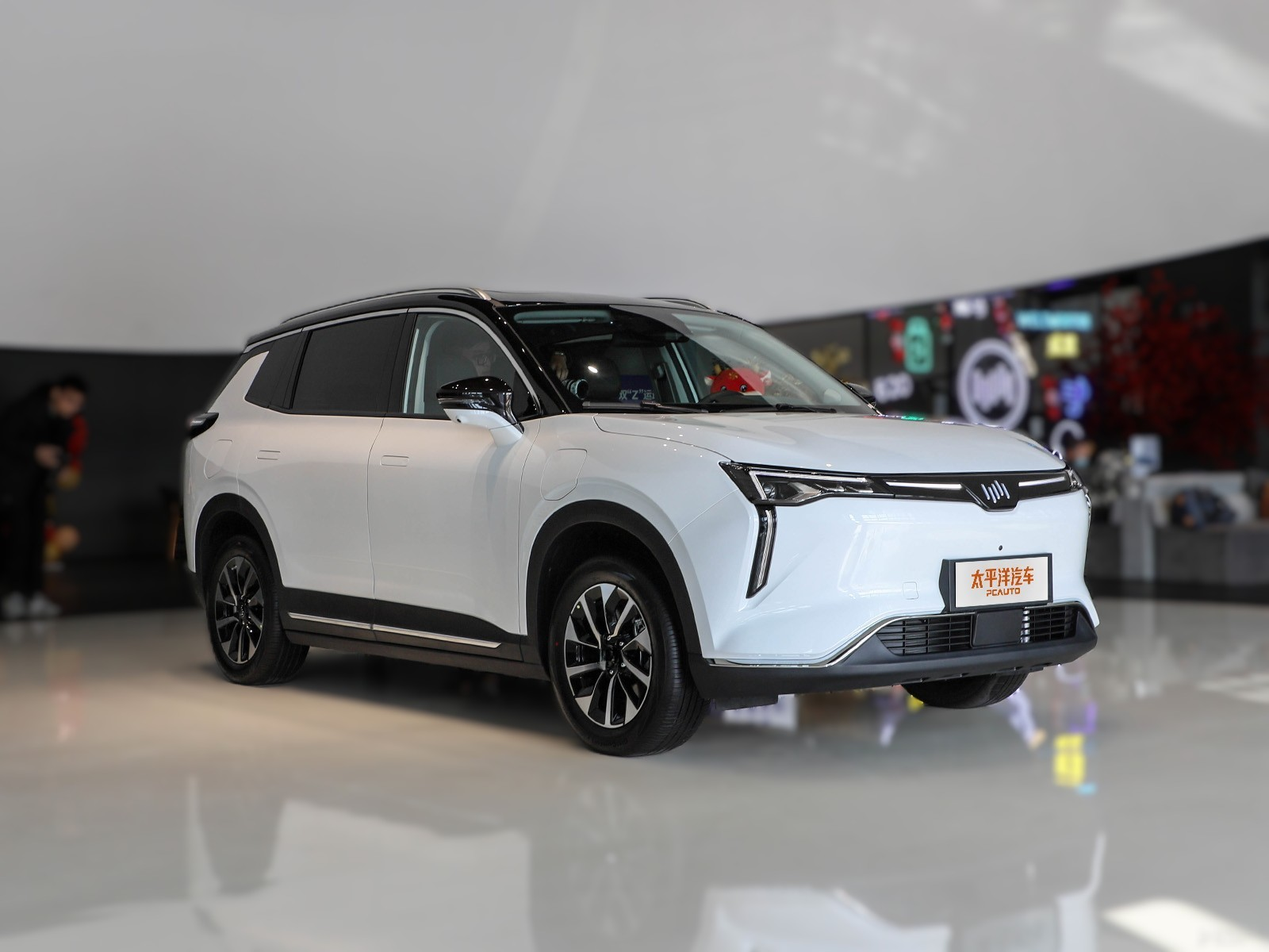WELTMEISTER: (982, 481, 1010, 503)
